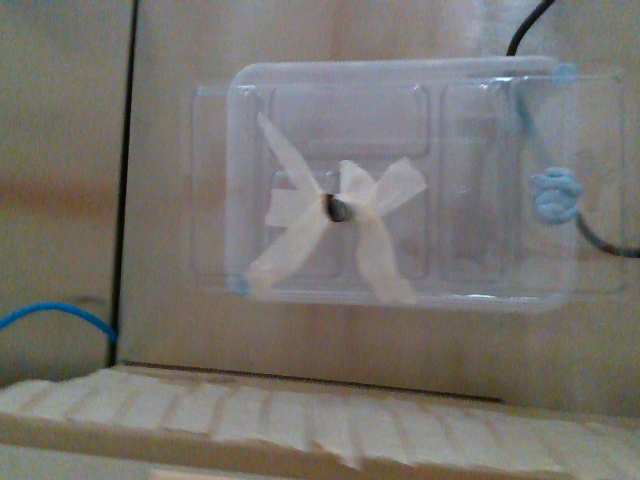test_strip: (321, 188, 338, 222)
